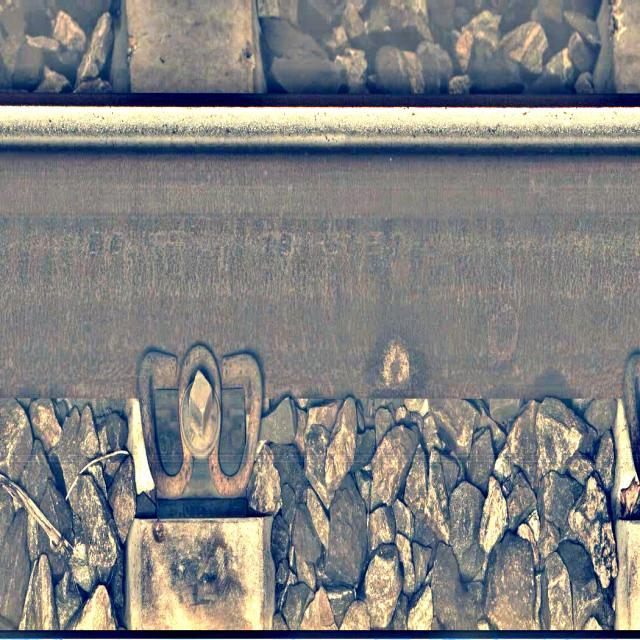Good Fasteners: (139, 343, 263, 498)
